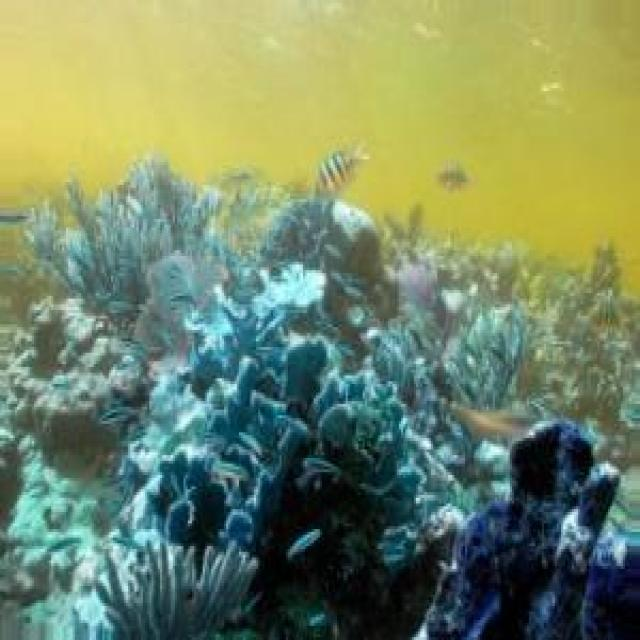Healthy: (99, 266, 446, 639), (420, 423, 640, 639), (1, 228, 146, 476), (395, 238, 569, 444), (1, 429, 112, 639), (67, 159, 209, 314), (99, 543, 259, 639)
